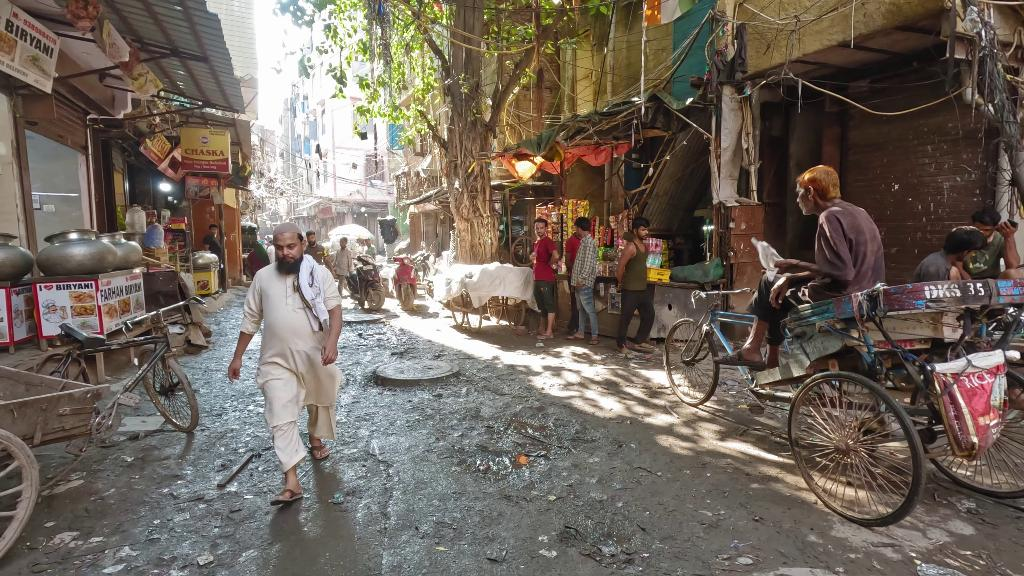garbage: (926, 351, 1020, 462)
